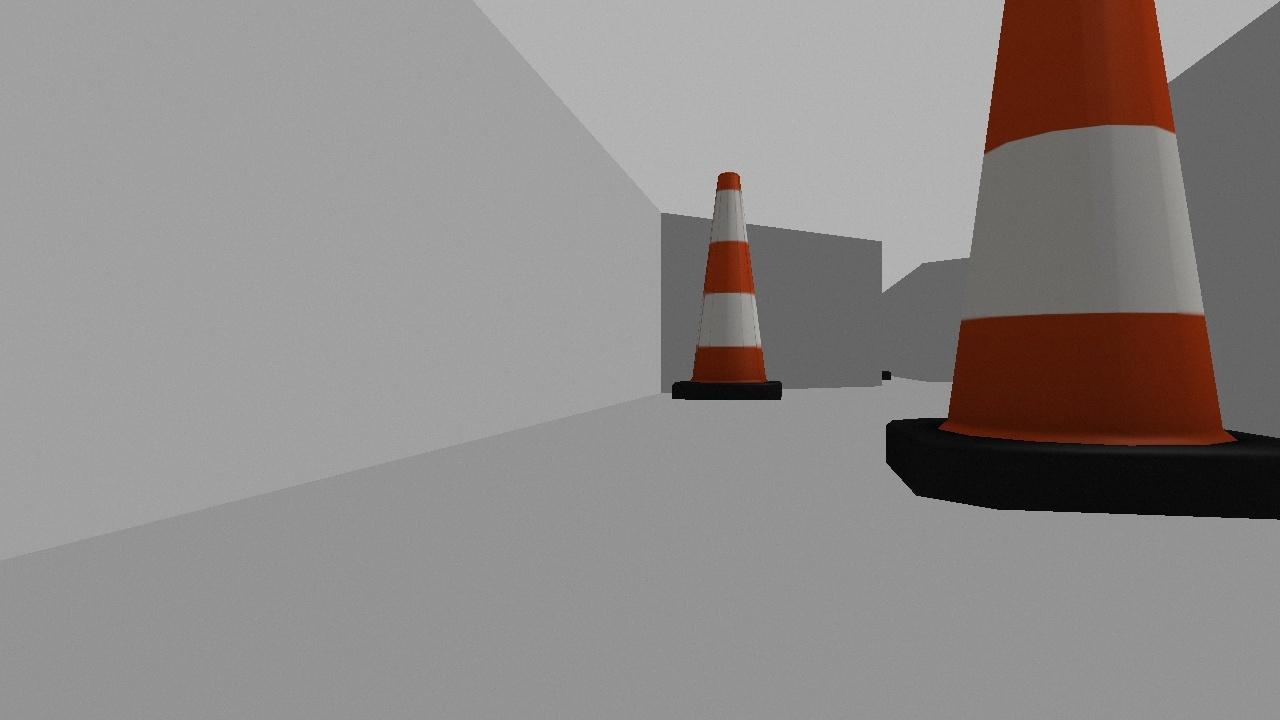cone_barrel: (872, 0, 1279, 525), (665, 161, 787, 402)
